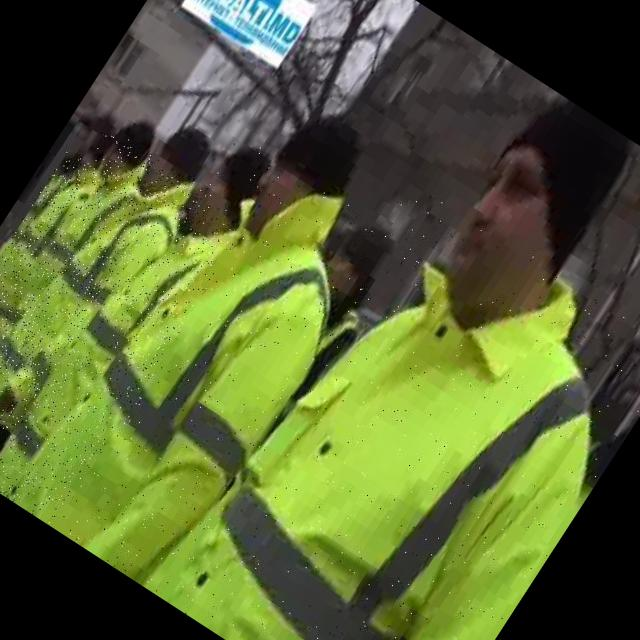safety_vest: (143, 173, 640, 640), (2, 131, 400, 600), (0, 186, 241, 526), (0, 135, 208, 460), (0, 129, 159, 381), (0, 149, 107, 351)
